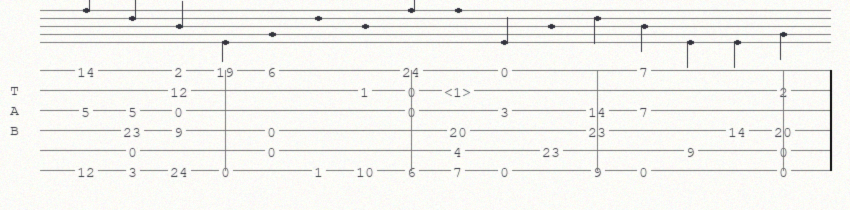0: (128, 144, 141, 157), (174, 104, 187, 117), (221, 164, 234, 177), (267, 124, 280, 137), (267, 144, 280, 157), (407, 84, 420, 97), (407, 104, 420, 117), (500, 164, 513, 177), (500, 64, 513, 77), (639, 164, 652, 177), (779, 144, 792, 157), (779, 164, 792, 177)
1: (314, 164, 327, 177), (360, 84, 373, 97)
10: (356, 164, 378, 177)
12: (77, 164, 99, 177), (170, 84, 192, 97)
14: (77, 64, 99, 77), (588, 104, 610, 117), (728, 124, 750, 137)
19: (216, 64, 238, 77)
2: (174, 64, 187, 77), (779, 84, 792, 97)
20: (449, 124, 471, 137), (774, 124, 796, 137)
23: (123, 124, 145, 137), (542, 144, 564, 157), (588, 124, 610, 137)
24: (170, 164, 192, 177), (402, 64, 424, 77)
3: (128, 164, 141, 177), (500, 104, 513, 117)
4: (453, 144, 466, 157)
5: (81, 104, 94, 117), (128, 104, 141, 117)
6: (267, 64, 280, 77), (407, 164, 420, 177)
7: (453, 164, 466, 177), (639, 104, 652, 117), (639, 64, 652, 77)
9: (174, 124, 187, 137), (593, 164, 606, 177), (686, 144, 699, 157)
harmonic: (444, 84, 475, 97)
